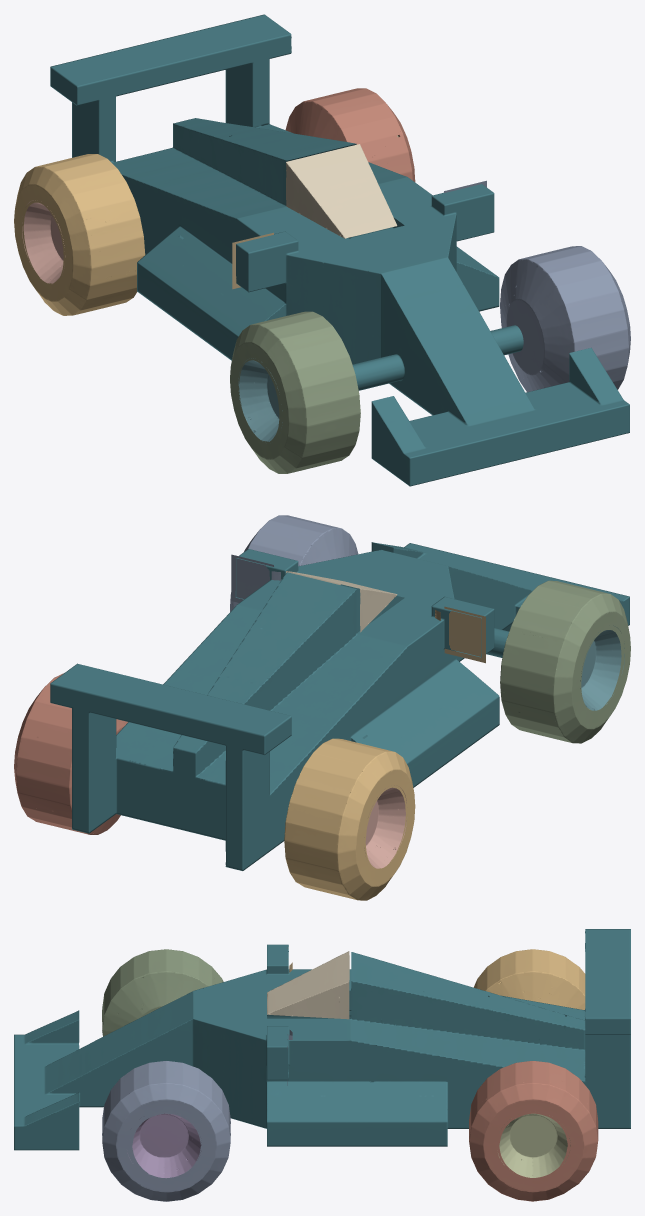
Rendered from race-car.glb.
3 renders of one model, top to bottom at view 1: azimuth 30°, elevation 25°; view 2: azimuth 150°, elevation 25°; view 3: azimuth 270°, elevation 25°, orthographic. The views are drawn at different scales.
Parts seen in each view (by area): view 1: Part 01, Part 05, Part 02, Part 04, Part 06, Part 03, Part 09, Part 08; view 2: Part 01, Part 05, Part 02, Part 03, Part 04, Part 08, Part 09, Part 12, Part 11, Part 06; view 3: Part 01, Part 03, Part 04, Part 05, Part 02, Part 06, Part 07, Part 10.
Part boxes in pixels (box(x1,y1,x2,y2)): Part 01: box(50, 14, 629, 486); Part 05: box(230, 311, 360, 473); Part 02: box(14, 154, 145, 315); Part 04: box(500, 246, 630, 392); Part 06: box(286, 144, 397, 238); Part 03: box(285, 88, 415, 181); Part 09: box(22, 200, 65, 283); Part 08: box(238, 358, 282, 441); Part 01: box(50, 542, 629, 870); Part 05: box(500, 580, 630, 743); Part 02: box(284, 738, 415, 900); Part 03: box(14, 673, 127, 834); Part 04: box(230, 515, 358, 611); Part 08: box(580, 625, 624, 710); Part 09: box(364, 785, 407, 868); Part 12: box(435, 606, 485, 663); Part 11: box(231, 554, 280, 602); Part 06: box(286, 571, 397, 632); Part 01: box(14, 929, 630, 1150); Part 03: box(469, 1061, 598, 1201); Part 04: box(102, 1061, 230, 1201); Part 05: box(102, 949, 223, 1036); Part 02: box(473, 949, 585, 1009); Part 06: box(267, 951, 349, 1019); Part 07: box(127, 1113, 201, 1178); Part 10: box(498, 1113, 570, 1177).
Size of the model in its own units: 0.5457 by 0.3018 by 1.
